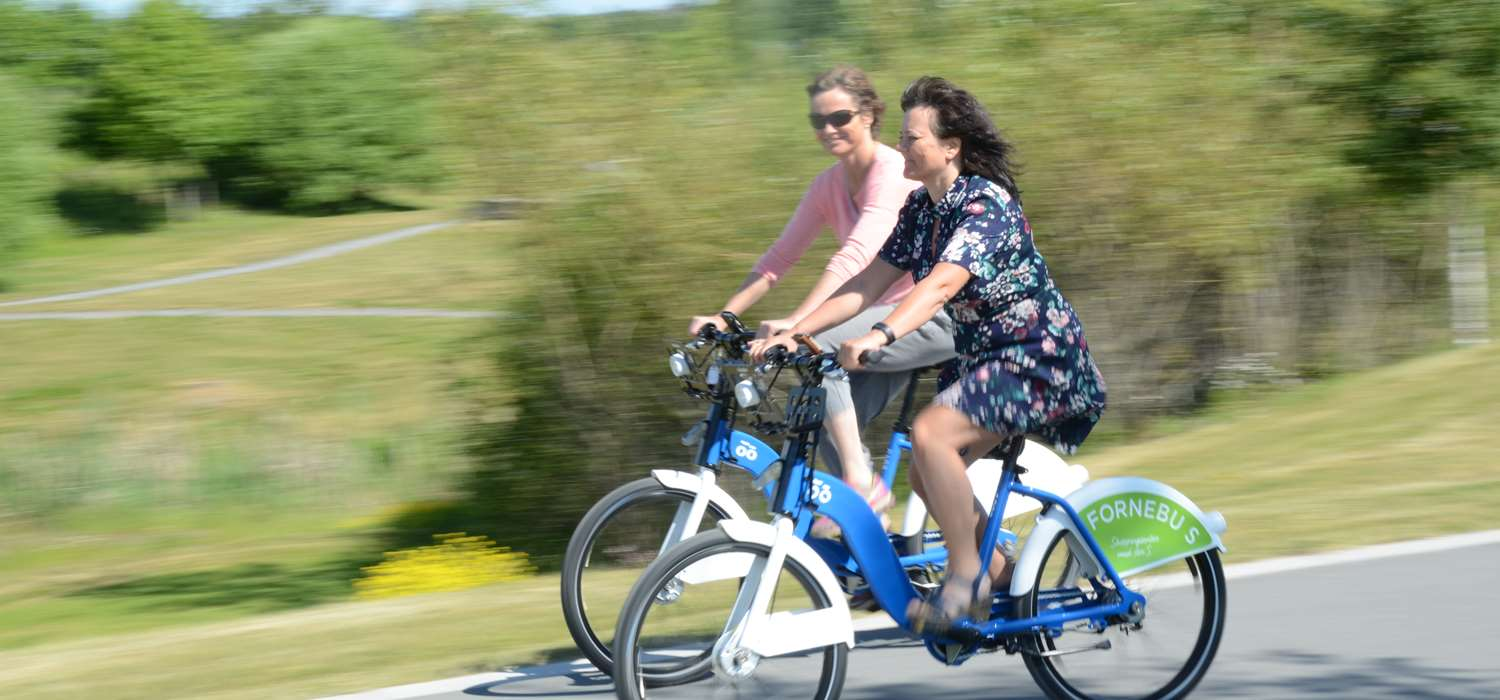Person: (748, 77, 1111, 629), (686, 63, 957, 542)
